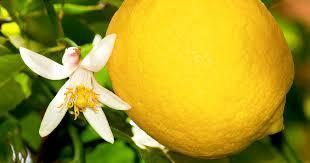lemon: (106, 0, 294, 159)
